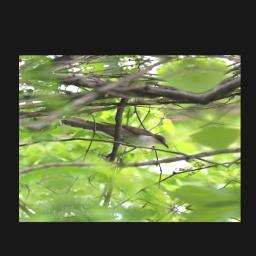Cuckoo: (56, 104, 172, 160)
